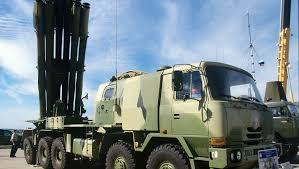MIL_SAM_TEL: (21, 0, 278, 169)
